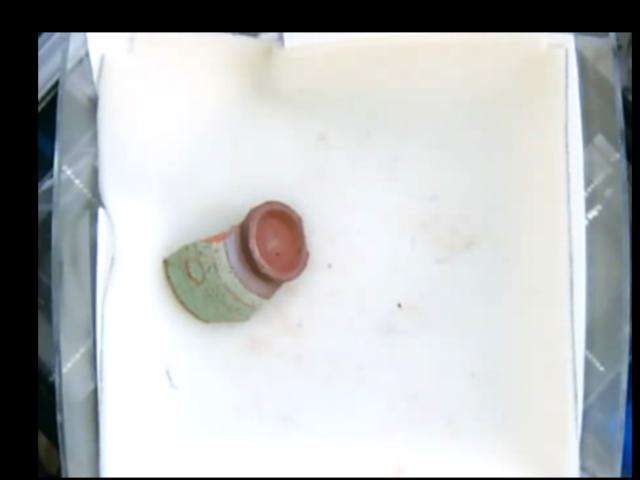China: (162, 201, 305, 320)
